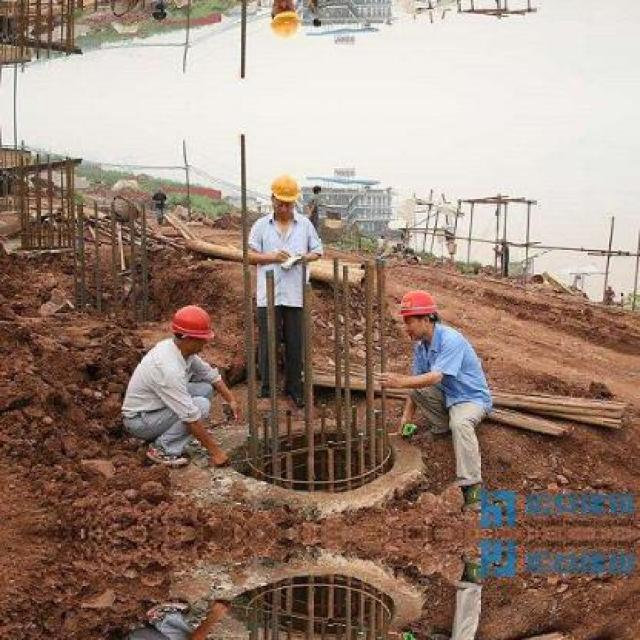helmet: (390, 281, 441, 337), (167, 298, 211, 351), (264, 163, 302, 220), (264, 0, 303, 49)
